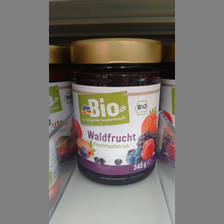jam: (70, 38, 164, 186)
